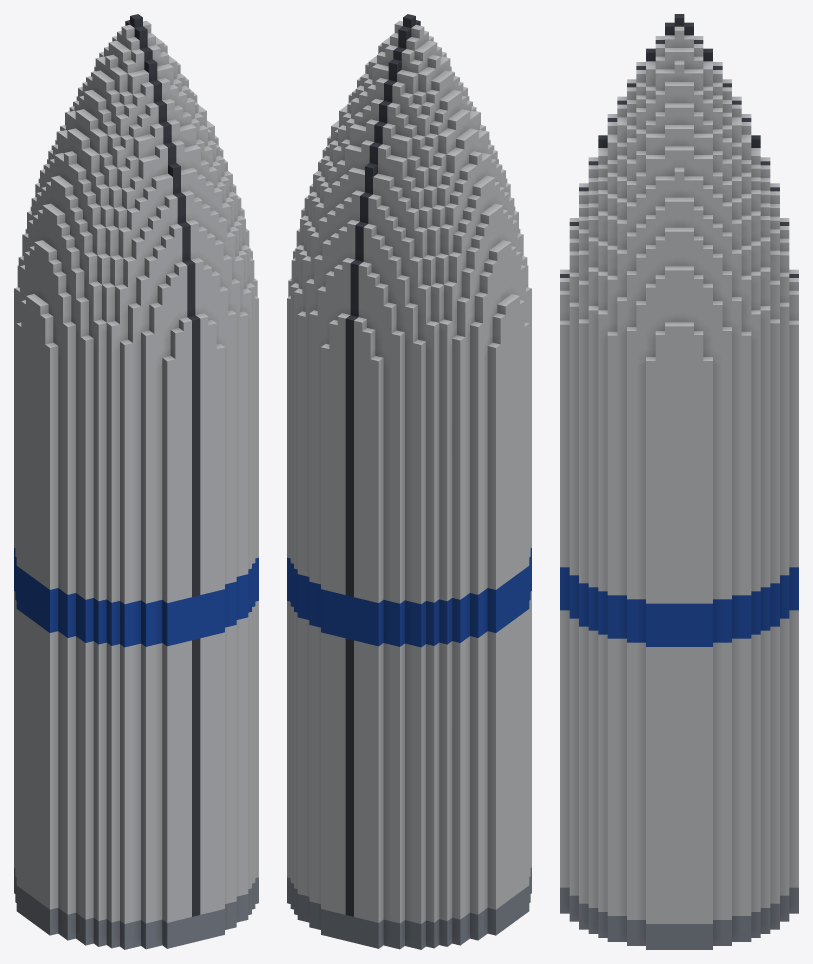
The model's file is fairing_s_long.glb.
3 renders of one model, left to right at view 1: azimuth 30°, elevation 25°; view 2: azimuth 150°, elevation 25°; view 3: azimuth 270°, elevation 25°, orthographic.
Visible parts, largest first — view 1: fairing_s_long; view 2: fairing_s_long; view 3: fairing_s_long.
Boxes of the visible parts, <box> form: fairing_s_long: <box>14,14,258,949</box>; fairing_s_long: <box>287,14,531,949</box>; fairing_s_long: <box>560,14,798,949</box>.
Size of the model in its own units: 1.25 by 5.1 by 1.25.
